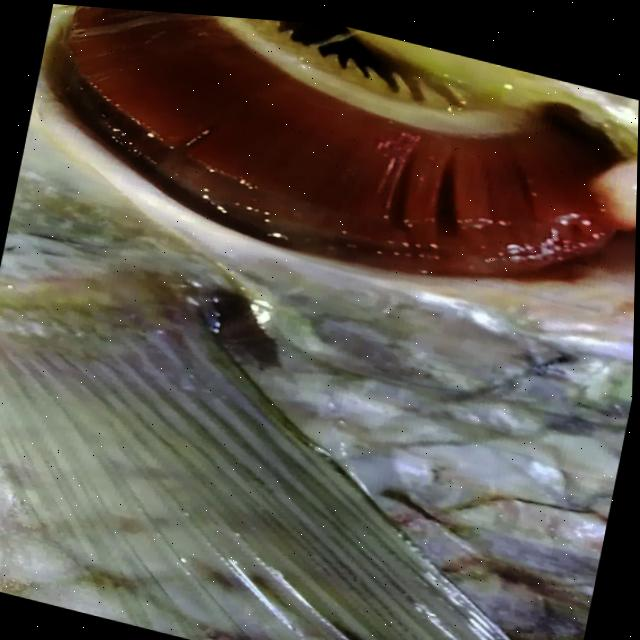Fresh: (8, 1, 640, 356)
